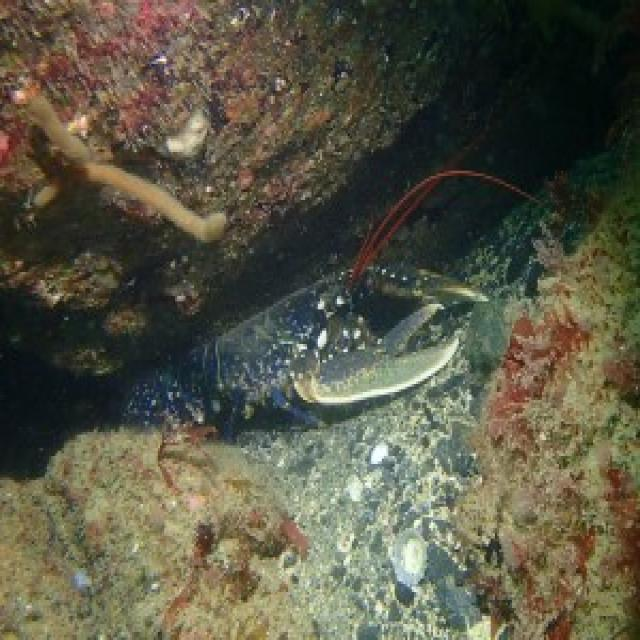lobsters: (78, 93, 632, 548)
